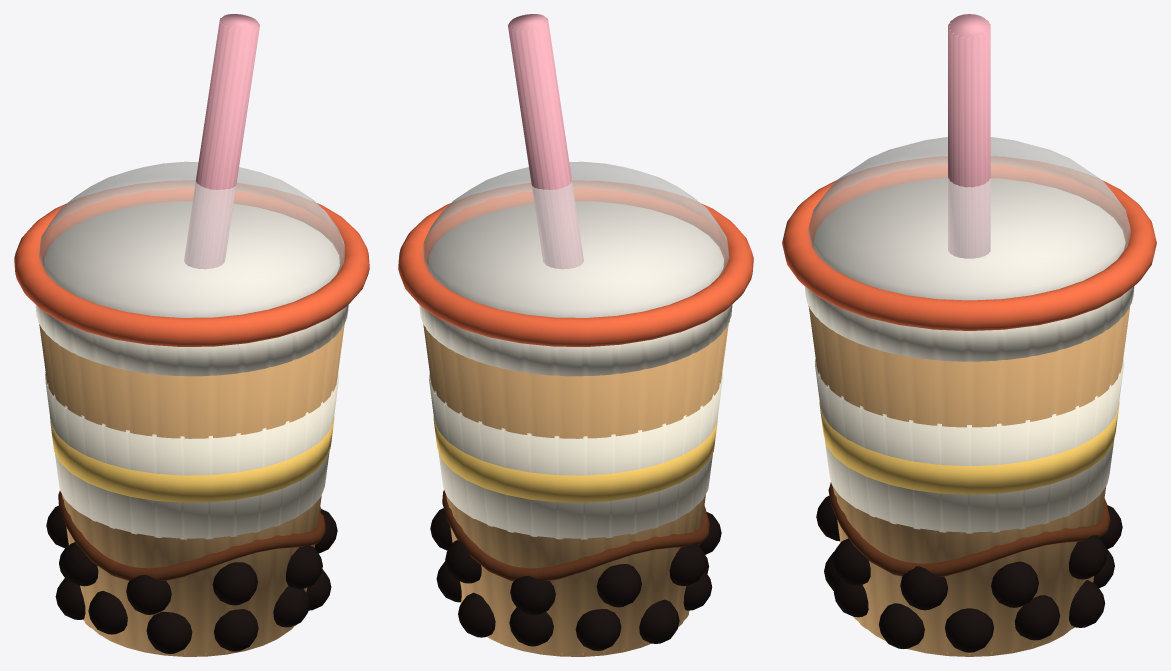
File: bubble-tea.glb
3 renders of one model, left to right at view 1: azimuth 30°, elevation 25°; view 2: azimuth 150°, elevation 25°; view 3: azimuth 270°, elevation 25°, orthographic. The views are drawn at different scales.
Parts seen in each view (by area): view 1: DomeCap, TeaBody, CheeseFoam, CupSleeve, LidRim, Straw, SleeveAccent, BrownSugarSwirl, Pearl_1_6, Pearl_0_7, Pearl_0_8, Pearl_1_5 (+8 smaller); view 2: DomeCap, TeaBody, CheeseFoam, CupSleeve, LidRim, Straw, SleeveAccent, BrownSugarSwirl, Pearl_1_3, Pearl_0_4, Pearl_1_2, Pearl_0_5 (+7 smaller); view 3: DomeCap, TeaBody, CheeseFoam, CupSleeve, LidRim, Straw, SleeveAccent, BrownSugarSwirl, Pearl_1_0, Pearl_0_0, Pearl_0_10, Pearl_1_8 (+6 smaller).
Part boxes in pixels (bbox=[...]): DomeCap: bbox=[38, 161, 345, 317]; TeaBody: bbox=[39, 324, 344, 656]; CheeseFoam: bbox=[35, 201, 348, 376]; CupSleeve: bbox=[45, 372, 338, 539]; LidRim: bbox=[14, 181, 369, 346]; Straw: bbox=[184, 14, 259, 268]; SleeveAccent: bbox=[50, 417, 334, 502]; BrownSugarSwirl: bbox=[58, 491, 325, 580]; Pearl_1_6: bbox=[212, 562, 257, 605]; Pearl_0_7: bbox=[146, 611, 192, 653]; Pearl_0_8: bbox=[214, 609, 258, 651]; Pearl_1_5: bbox=[126, 575, 171, 614]; DomeCap: bbox=[422, 161, 729, 317]; TeaBody: bbox=[423, 324, 728, 656]; CheeseFoam: bbox=[419, 201, 732, 376]; CupSleeve: bbox=[429, 372, 722, 539]; LidRim: bbox=[398, 181, 753, 346]; Straw: bbox=[508, 14, 583, 268]; SleeveAccent: bbox=[433, 417, 717, 502]; BrownSugarSwirl: bbox=[442, 490, 709, 581]; Pearl_1_3: bbox=[596, 564, 641, 607]; Pearl_0_4: bbox=[575, 609, 621, 650]; Pearl_1_2: bbox=[510, 576, 555, 615]; Pearl_0_5: bbox=[639, 599, 679, 643]; DomeCap: bbox=[807, 137, 1131, 300]; TeaBody: bbox=[808, 305, 1130, 656]; CheeseFoam: bbox=[804, 178, 1134, 361]; CupSleeve: bbox=[815, 359, 1123, 533]; LidRim: bbox=[782, 157, 1156, 330]; Straw: bbox=[948, 14, 990, 258]; SleeveAccent: bbox=[819, 402, 1119, 494]; BrownSugarSwirl: bbox=[828, 482, 1110, 576]; Pearl_1_0: bbox=[991, 561, 1038, 607]; Pearl_0_0: bbox=[945, 608, 993, 652]; Pearl_0_10: bbox=[879, 603, 924, 648]; Pearl_1_8: bbox=[900, 566, 948, 610].
Bounding box in the file's own units: 0.9163 × 1.65 × 0.9163.
